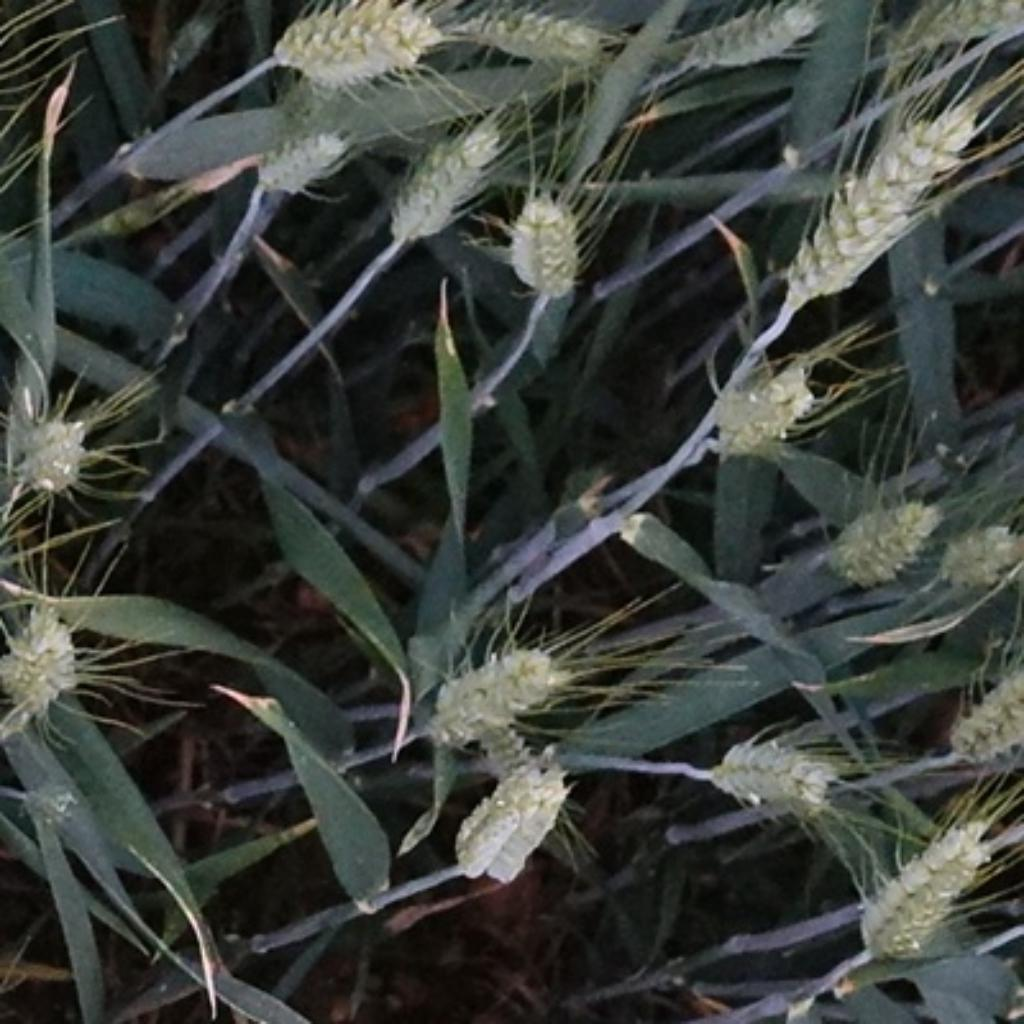0-0: (755, 87, 980, 307), (844, 814, 998, 973), (420, 632, 584, 747), (443, 758, 580, 887), (264, 1, 456, 88), (379, 117, 505, 245), (694, 348, 822, 468), (663, 2, 829, 82), (824, 489, 942, 592), (705, 726, 842, 814), (448, 2, 614, 74), (0, 596, 87, 729), (498, 190, 590, 308), (934, 645, 1021, 765), (7, 402, 104, 504), (896, 2, 1021, 69), (254, 123, 354, 202), (922, 525, 1020, 599), (5, 761, 99, 838)
